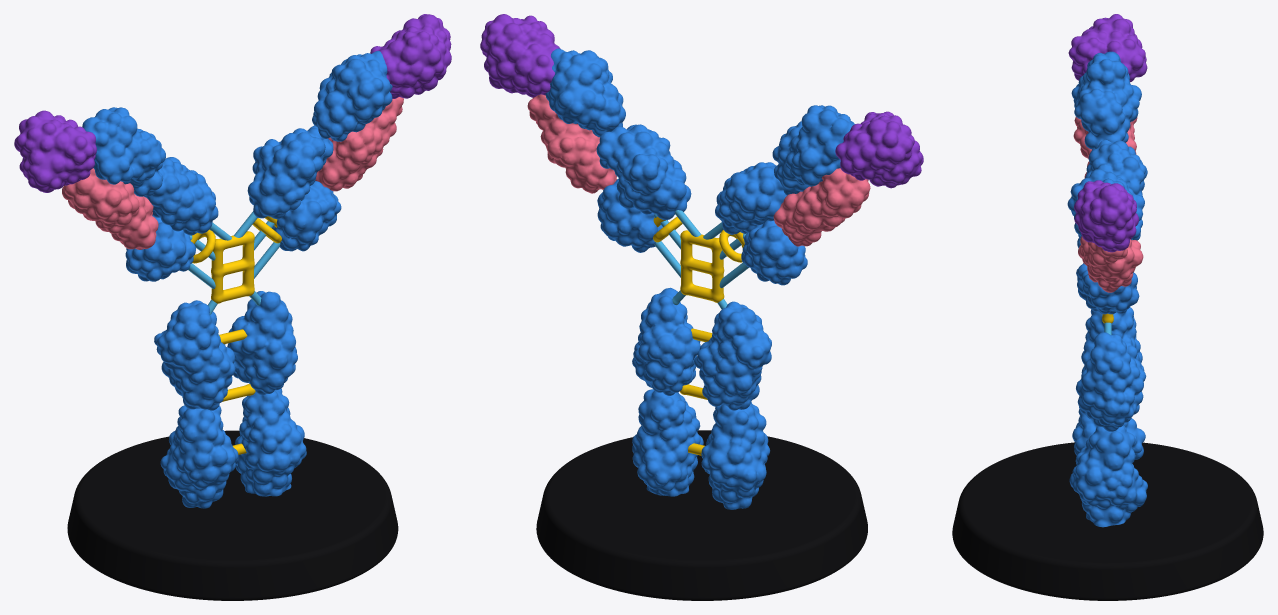
File: igg_antibody.glb
3 renders of one model, left to right at view 1: azimuth 30°, elevation 25°; view 2: azimuth 150°, elevation 25°; view 3: azimuth 270°, elevation 25°, orthographic. The views are drawn at different scales.
Parts seen in each view (by area): view 1: Pedestal, Fc_CH2_L, Fc_CH3_R, Fc_CH3_L, Fab_R_CH1, Fc_CH2_R, Fab_R_VH, Fab_L_Paratope, Fab_L_VH, Fab_R_Paratope, Fab_L_VL, Fab_L_CH1 (+6 smaller); view 2: Pedestal, Fab_R_CH1, Fc_CH2_L, Fc_CH3_R, Fc_CH3_L, Fab_R_Paratope, Fc_CH2_R, Fab_R_VH, Fab_L_Paratope, Fab_L_VH, Fab_L_VL, Fab_R_VL (+6 smaller); view 3: Pedestal, Fc_CH3_R, Fc_CH2_R, Fab_L_VH, Fab_R_Paratope, Fab_L_Paratope, Fab_R_VL, Fab_L_CH1, Fab_R_CL, Fc_CH2_L, Fc_CH3_L, Fab_R_VH (+1 smaller).
Boxes of the visible parts, bbox=[...] form: Pedestal: bbox=[67, 430, 398, 600]; Fc_CH2_L: bbox=[154, 300, 235, 410]; Fc_CH3_R: bbox=[235, 388, 306, 496]; Fc_CH3_L: bbox=[160, 405, 238, 508]; Fab_R_CH1: bbox=[247, 125, 333, 219]; Fc_CH2_R: bbox=[227, 291, 297, 395]; Fab_R_VH: bbox=[312, 51, 392, 141]; Fab_L_Paratope: bbox=[14, 110, 96, 192]; Fab_L_VH: bbox=[82, 107, 165, 196]; Fab_R_Paratope: bbox=[370, 14, 451, 98]; Fab_L_VL: bbox=[62, 168, 158, 249]; Fab_L_CH1: bbox=[143, 157, 218, 235]; Pedestal: bbox=[536, 430, 867, 600]; Fab_R_CH1: bbox=[596, 124, 691, 220]; Fc_CH2_L: bbox=[694, 301, 771, 410]; Fc_CH3_R: bbox=[632, 389, 703, 496]; Fc_CH3_L: bbox=[701, 402, 770, 509]; Fab_R_Paratope: bbox=[480, 14, 560, 97]; Fc_CH2_R: bbox=[632, 287, 700, 395]; Fab_R_VH: bbox=[545, 48, 625, 137]; Fab_L_Paratope: bbox=[835, 111, 923, 188]; Fab_L_VH: bbox=[772, 105, 854, 195]; Fab_L_VL: bbox=[773, 168, 870, 246]; Fab_R_VL: bbox=[527, 94, 616, 193]; Pedestal: bbox=[952, 442, 1263, 600]; Fc_CH3_R: bbox=[1069, 425, 1147, 527]; Fc_CH2_R: bbox=[1076, 332, 1146, 431]; Fab_L_VH: bbox=[1071, 51, 1141, 149]; Fab_R_Paratope: bbox=[1074, 180, 1138, 252]; Fab_L_Paratope: bbox=[1068, 14, 1147, 82]; Fab_R_VL: bbox=[1078, 236, 1143, 292]; Fab_L_CH1: bbox=[1085, 139, 1147, 196]; Fab_R_CL: bbox=[1076, 263, 1139, 314]; Fc_CH2_L: bbox=[1081, 307, 1144, 372]; Fc_CH3_L: bbox=[1072, 409, 1145, 459]; Fab_R_VH: bbox=[1067, 169, 1144, 223].
Bounding box in the file's own units: 5.52 × 5.75 × 3.68.
